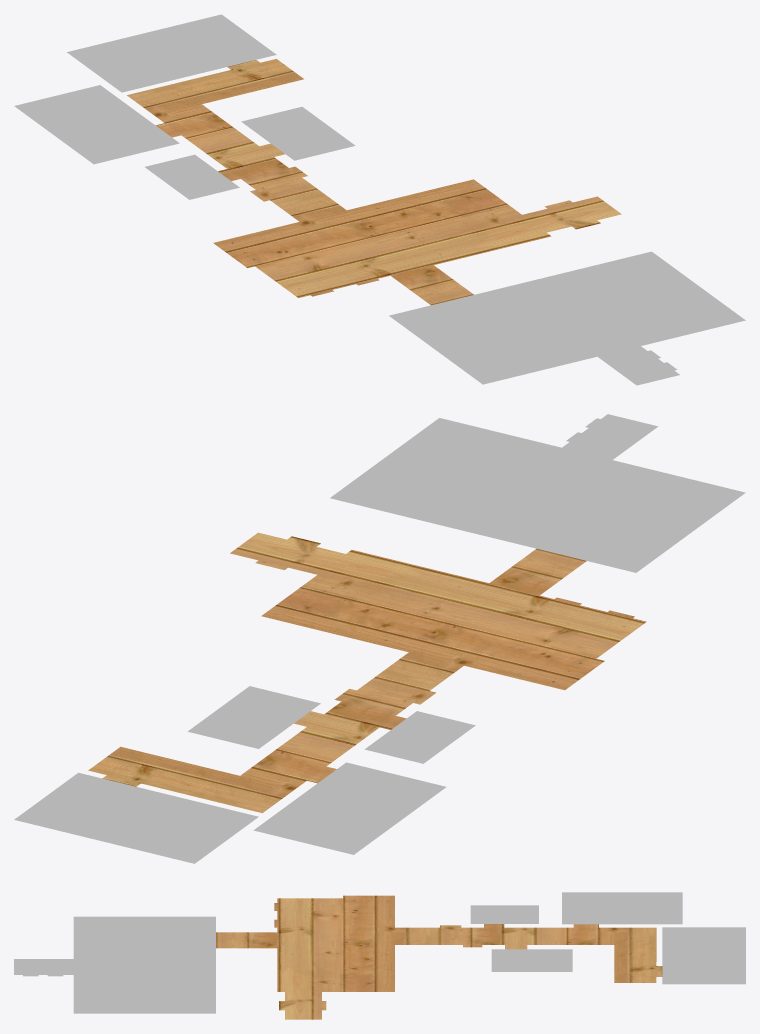
The model's file is Floor_Full04.FBX.
The picture shows the model from 3 angles, top to bottom: view 1: azimuth 30°, elevation 25°; view 2: azimuth 150°, elevation 25°; view 3: azimuth 270°, elevation 25°; orthographic projection. The views are drawn at different scales.
Parts seen in each view (by area): view 1: FloorWood001, FloorCarpet002, FloorCarpet005, FloorCarpet004, FloorCarpet003, FloorCarpet001; view 2: FloorWood001, FloorCarpet002, FloorCarpet005, FloorCarpet004, FloorCarpet003, FloorCarpet001; view 3: FloorWood001, FloorCarpet002, FloorCarpet005, FloorCarpet004, FloorCarpet003, FloorCarpet001.
Part boxes in pixels (x1=…): FloorWood001: x1=127, y1=59, x2=621, y2=305; FloorCarpet002: x1=389, y1=251, x2=745, y2=385; FloorCarpet005: x1=67, y1=14, x2=276, y2=92; FloorCarpet004: x1=14, y1=85, x2=179, y2=164; FloorCarpet003: x1=241, y1=106, x2=355, y2=160; FloorCarpet001: x1=145, y1=154, x2=239, y2=199; FloorWood001: x1=88, y1=532, x2=646, y2=813; FloorCarpet002: x1=330, y1=414, x2=745, y2=572; FloorCarpet005: x1=14, y1=772, x2=258, y2=863; FloorCarpet004: x1=253, y1=762, x2=446, y2=854; FloorCarpet003: x1=188, y1=686, x2=320, y2=748; FloorCarpet001: x1=364, y1=711, x2=475, y2=763; FloorWood001: x1=216, y1=895, x2=662, y2=1019; FloorCarpet002: x1=14, y1=916, x2=215, y2=1013; FloorCarpet005: x1=662, y1=927, x2=745, y2=984; FloorCarpet004: x1=562, y1=892, x2=682, y2=924; FloorCarpet003: x1=491, y1=949, x2=572, y2=971; FloorCarpet001: x1=470, y1=905, x2=538, y2=923.
Size of the model in its own units: 2649 by 0.000702 by 6439.
